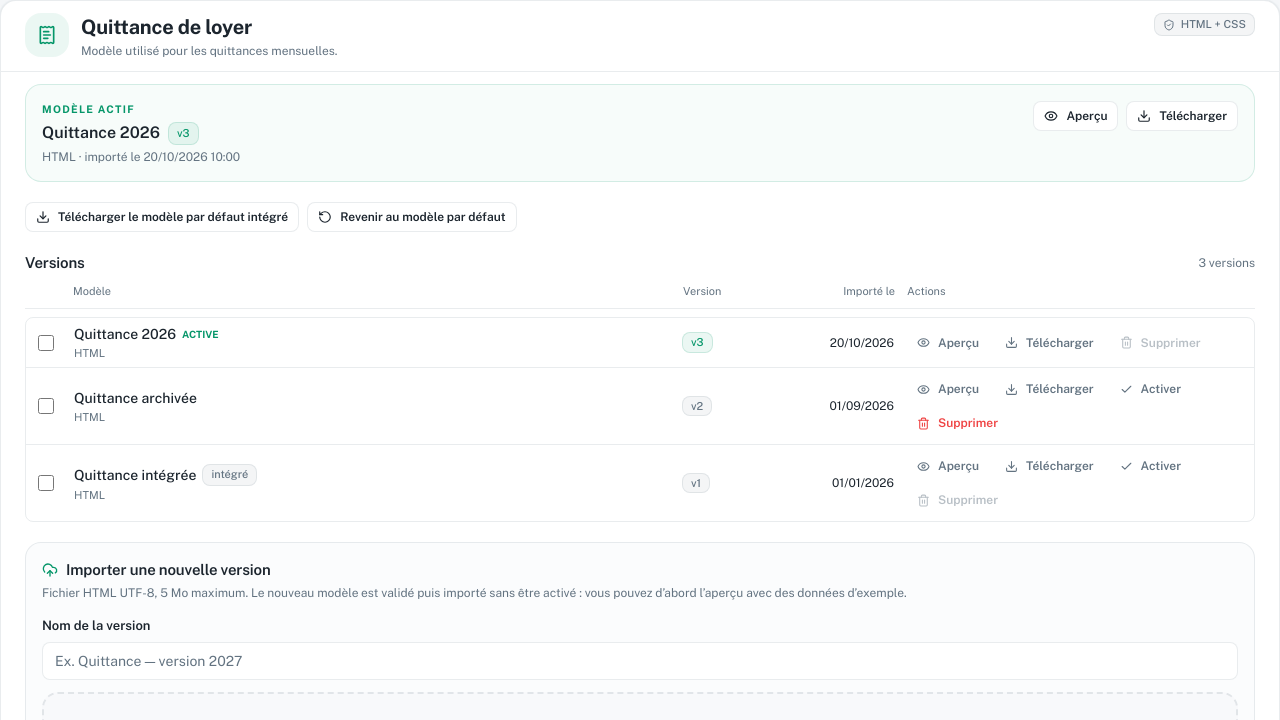
Test: TemplatesCard › closes the preview with Escape and the close button
Click the 1st button "Aperçu" at x=1076, y=116, box [1033, 101, 1118, 131]
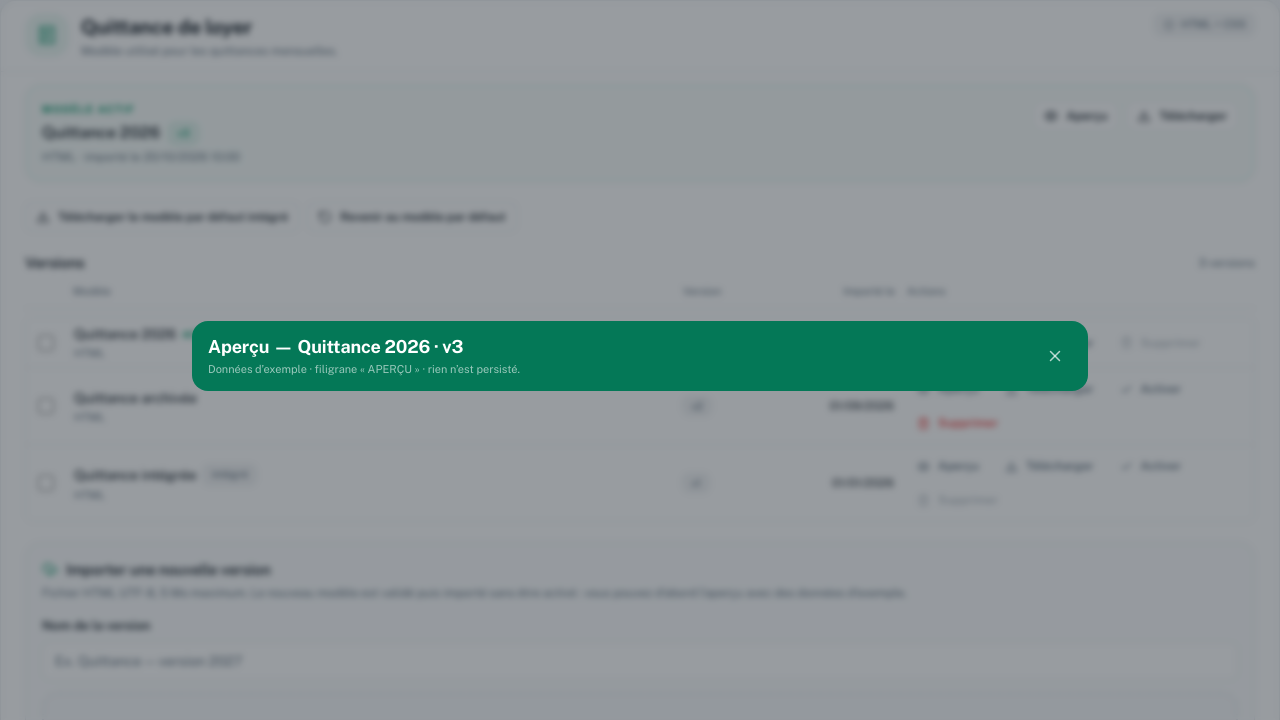
Expected: the dialog is shown, [192, 321, 1088, 399]
Press Escape
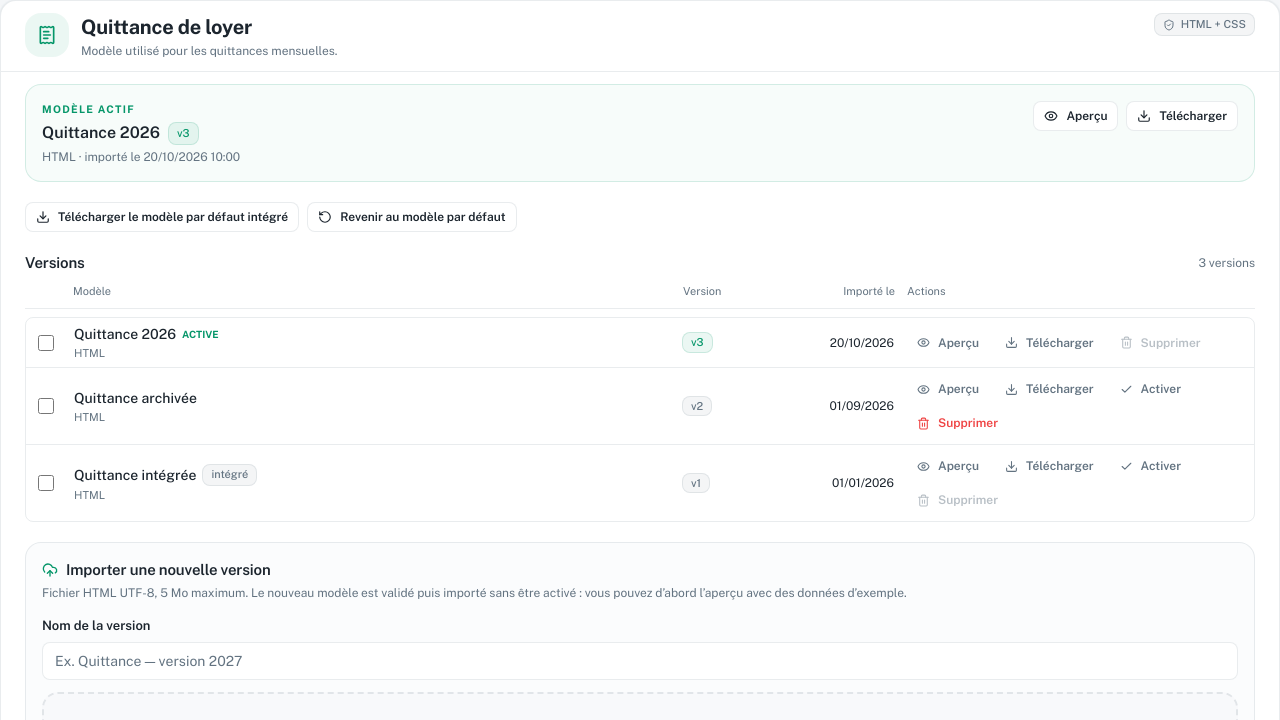
Expected: the dialog is gone
Click the 1st button "Aperçu" at x=1076, y=116, box [1033, 101, 1118, 131]
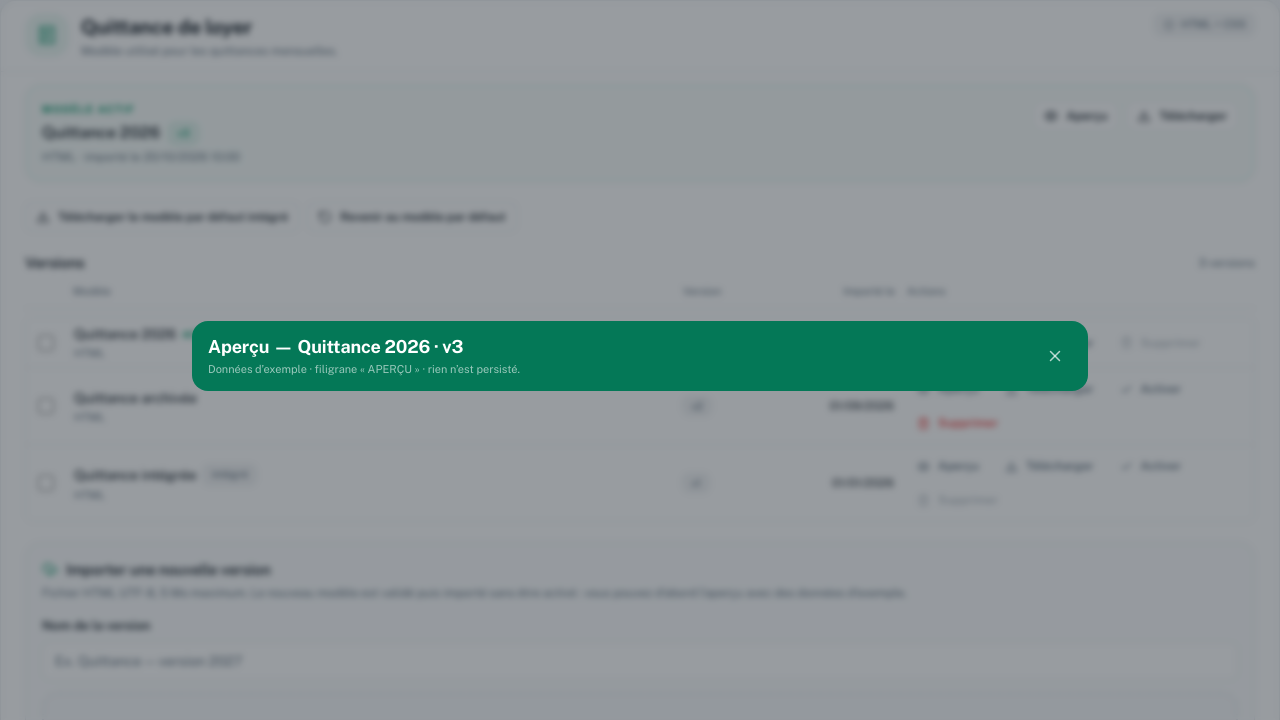
Expected: the dialog is shown, [192, 321, 1088, 399]
Click the button named "Fermer l’aperçu" at x=1055, y=356, box [1038, 339, 1072, 373]
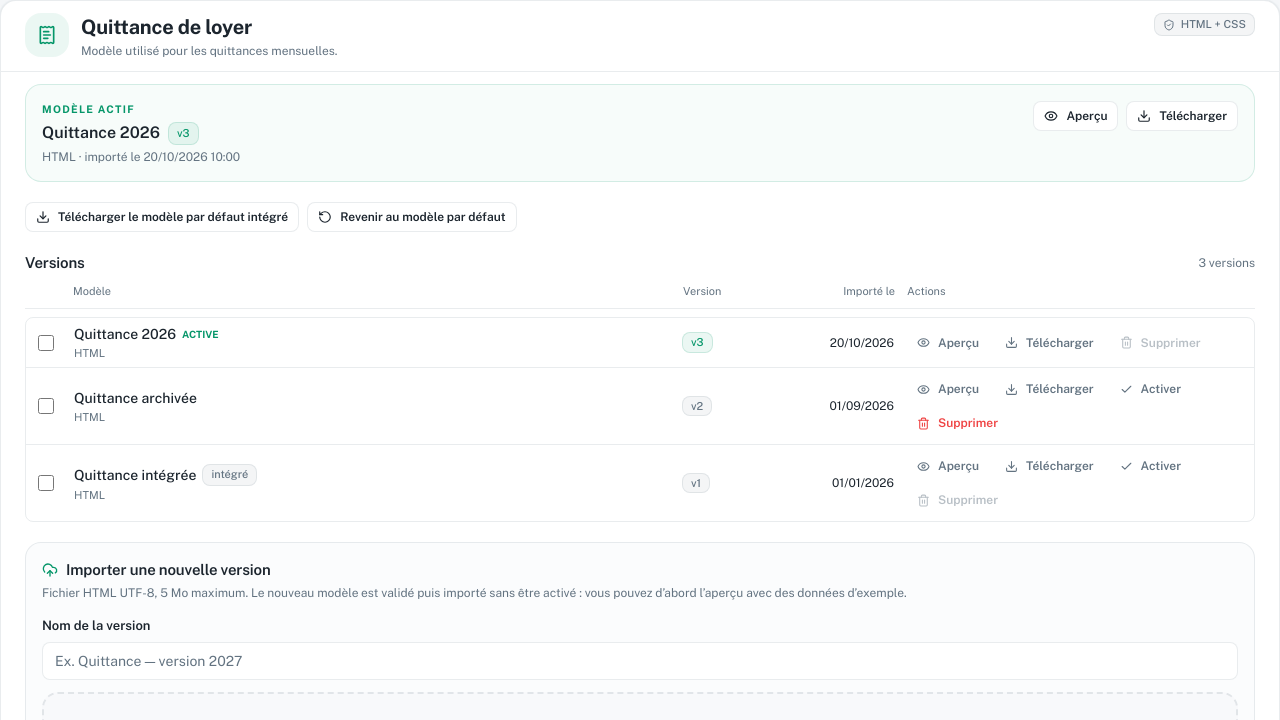
Expected: the dialog is gone
